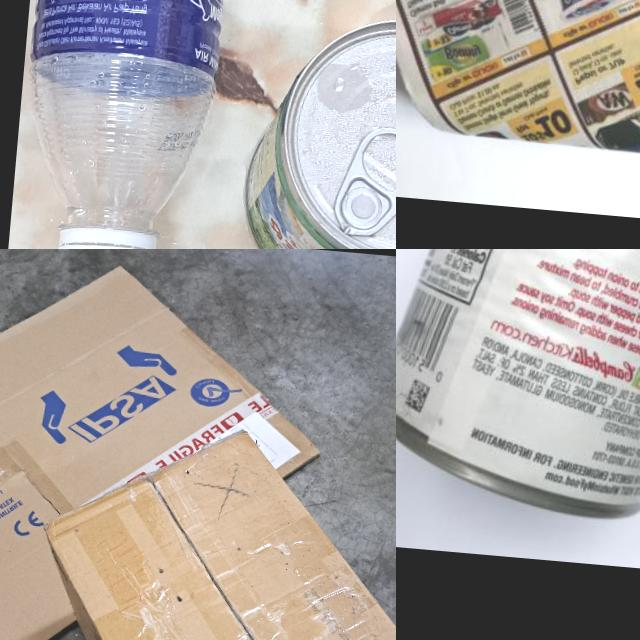aba de lata: (332, 121, 396, 244)
garrafa plástica: (9, 0, 249, 249)
lata: (396, 249, 640, 534), (233, 5, 396, 249)
papel: (396, 0, 640, 186)
papelão: (0, 252, 332, 640), (13, 411, 396, 640)
tampa plástica: (51, 223, 159, 249)
